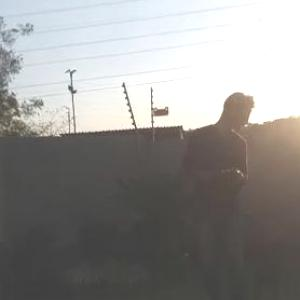follow: (176, 89, 261, 299)
